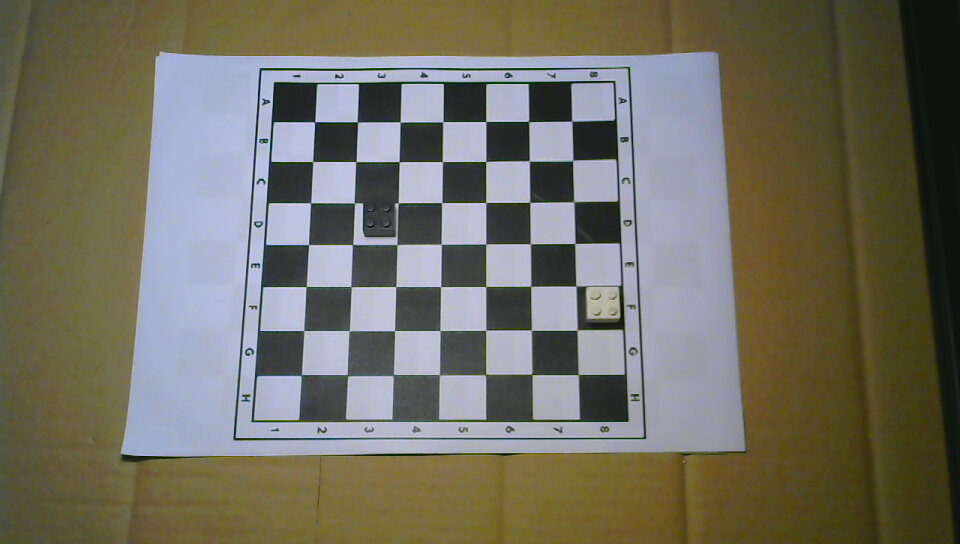bp: (359, 199, 397, 238)
wp: (582, 285, 622, 326)
